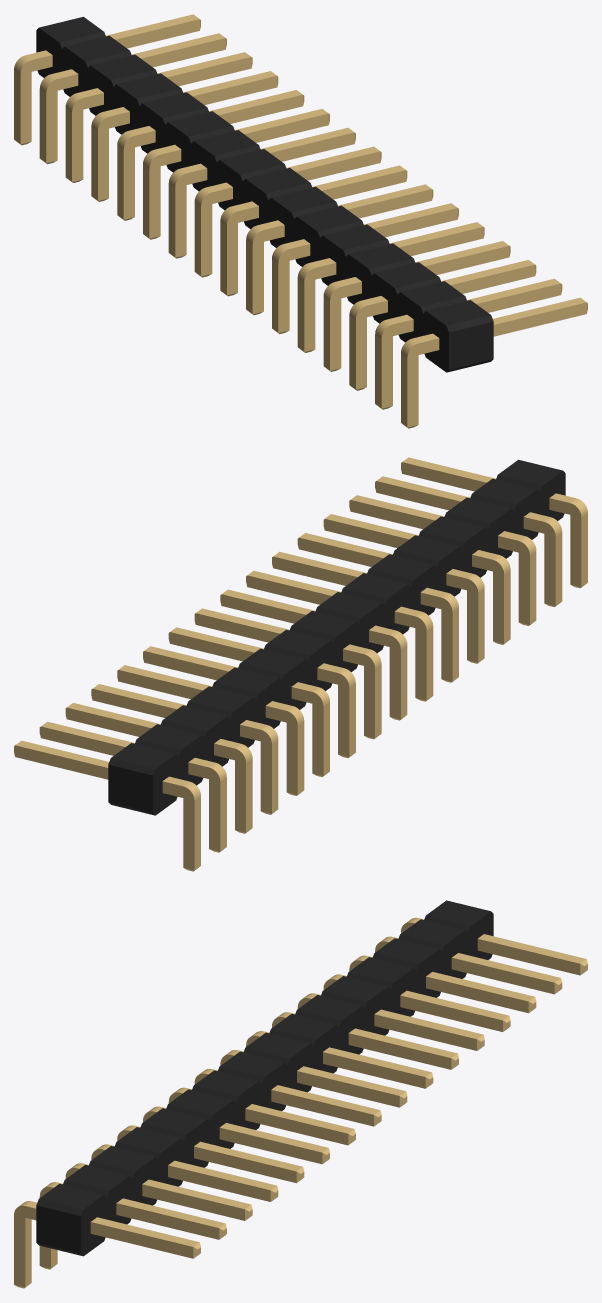
Rendered from kc-pinheader_1x16_p2.54mm_horizontal.glb.
3 renders of one model, top to bottom at view 1: azimuth 30°, elevation 25°; view 2: azimuth 150°, elevation 25°; view 3: azimuth 330°, elevation 25°, orthographic.
Visible parts, largest first — view 1: 0.75_0.5_0.25_0.9, 0_0_0_0; view 2: 0.75_0.5_0.25_0.9, 0_0_0_0; view 3: 0.75_0.5_0.25_0.9, 0_0_0_0.
Boxes of the visible parts, left/top/right/bottom form: 0.75_0.5_0.25_0.9: left=14, top=14, right=587, bottom=428; 0_0_0_0: left=36, top=16, right=493, bottom=372; 0.75_0.5_0.25_0.9: left=14, top=457, right=587, bottom=871; 0_0_0_0: left=108, top=459, right=565, bottom=815; 0.75_0.5_0.25_0.9: left=14, top=917, right=587, bottom=1288; 0_0_0_0: left=36, top=900, right=493, bottom=1256.
Size of the model in its own units: 1.04 by 0.5539 by 4.06.
